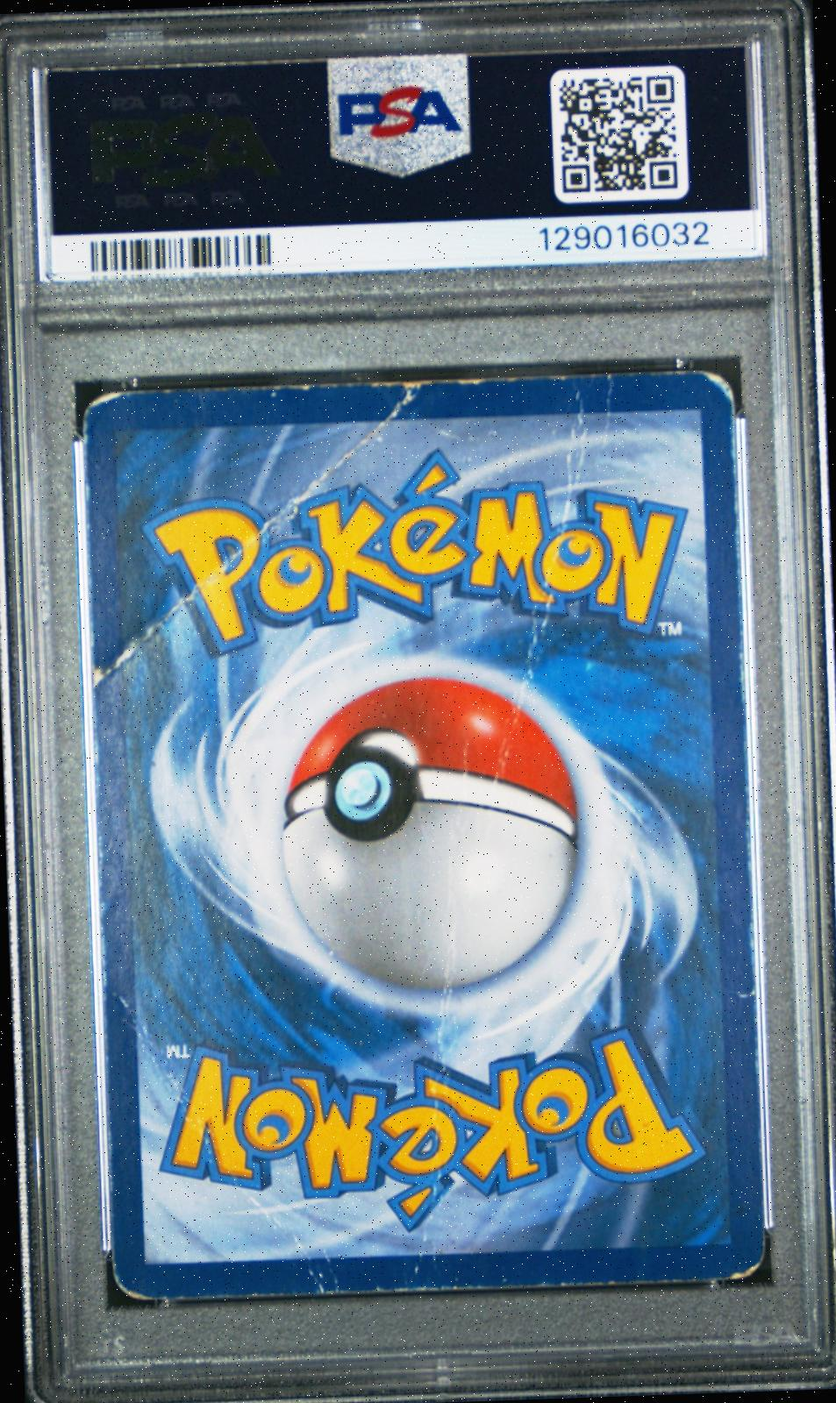card-2UtV: (81, 368, 766, 1301)
